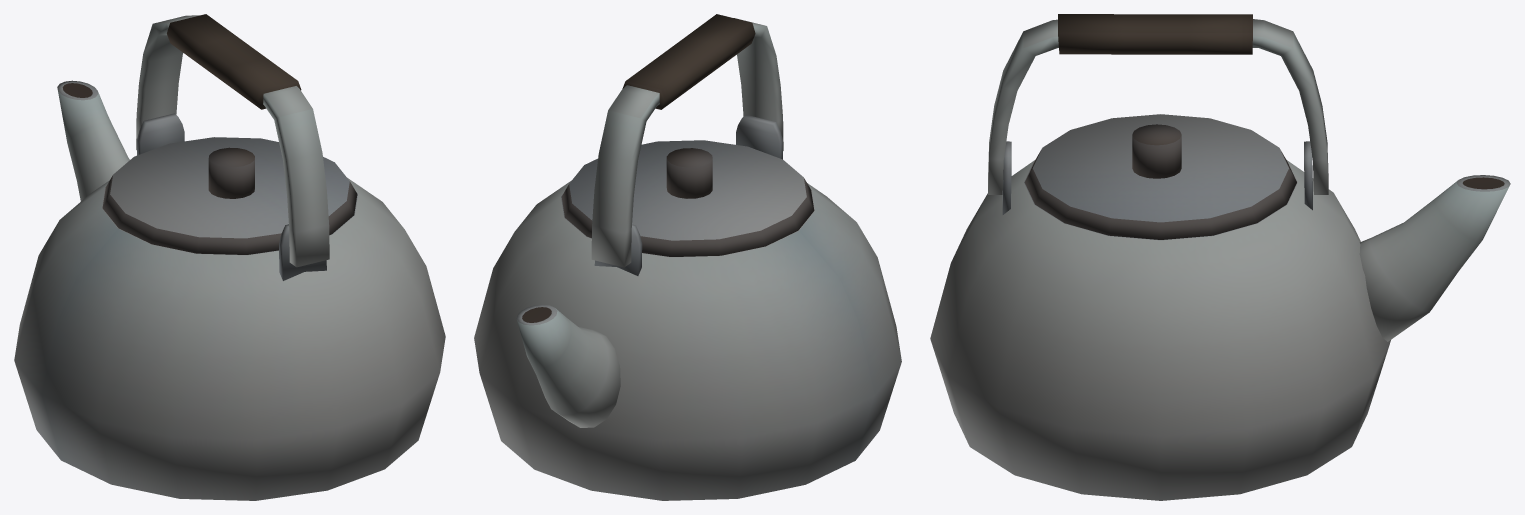
Rendered from porp_cettle01b.fbx.
3 views of the same model, side by side, from view 1: azimuth 30°, elevation 25°; view 2: azimuth 150°, elevation 25°; view 3: azimuth 270°, elevation 25° (orthographic). The views are drawn at different scales.
Visible parts, largest first — view 1: porp_cettle01b; view 2: porp_cettle01b; view 3: porp_cettle01b.
Boxes of the visible parts, bbox=[...] form: porp_cettle01b: bbox=[14, 14, 445, 500]; porp_cettle01b: bbox=[474, 14, 901, 500]; porp_cettle01b: bbox=[930, 14, 1510, 500].
Bounding box in the file's own units: 0.2332 × 0.2181 × 0.2934.
